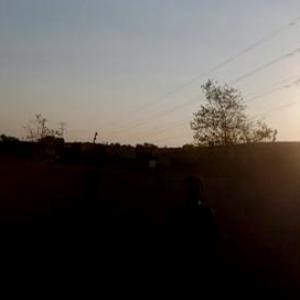follow: (157, 170, 220, 299)
